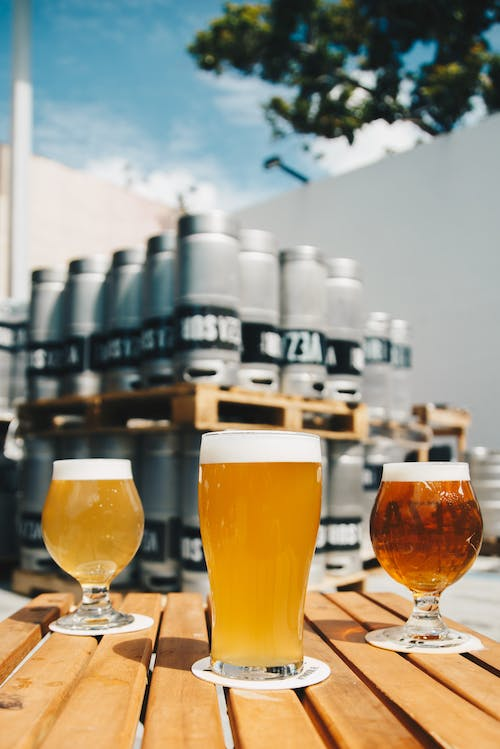alcohol: (196, 430, 324, 683), (367, 460, 485, 648), (38, 456, 146, 632)
